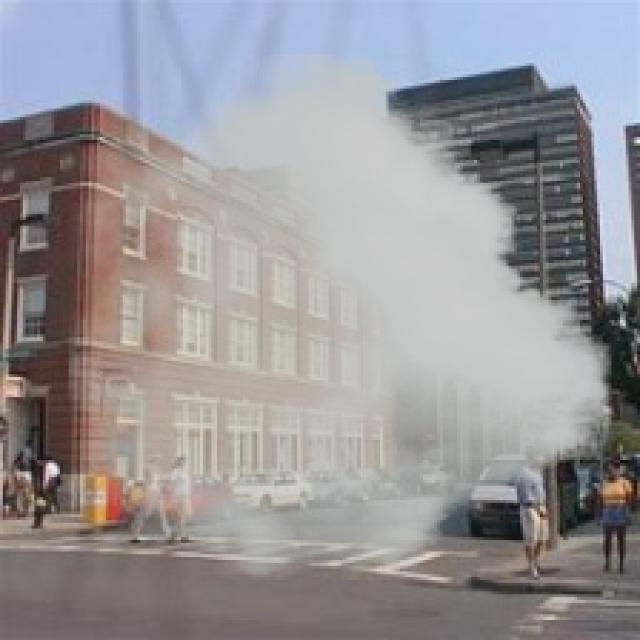smoke: (69, 54, 612, 580)
